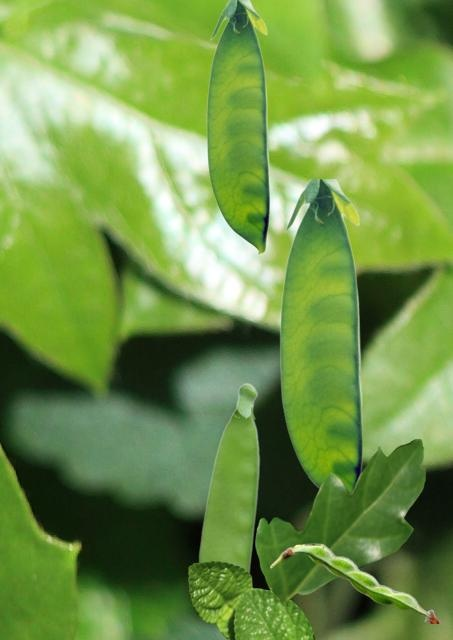pea: (279, 179, 361, 492), (206, 0, 268, 254), (270, 543, 440, 622), (198, 382, 259, 573)
